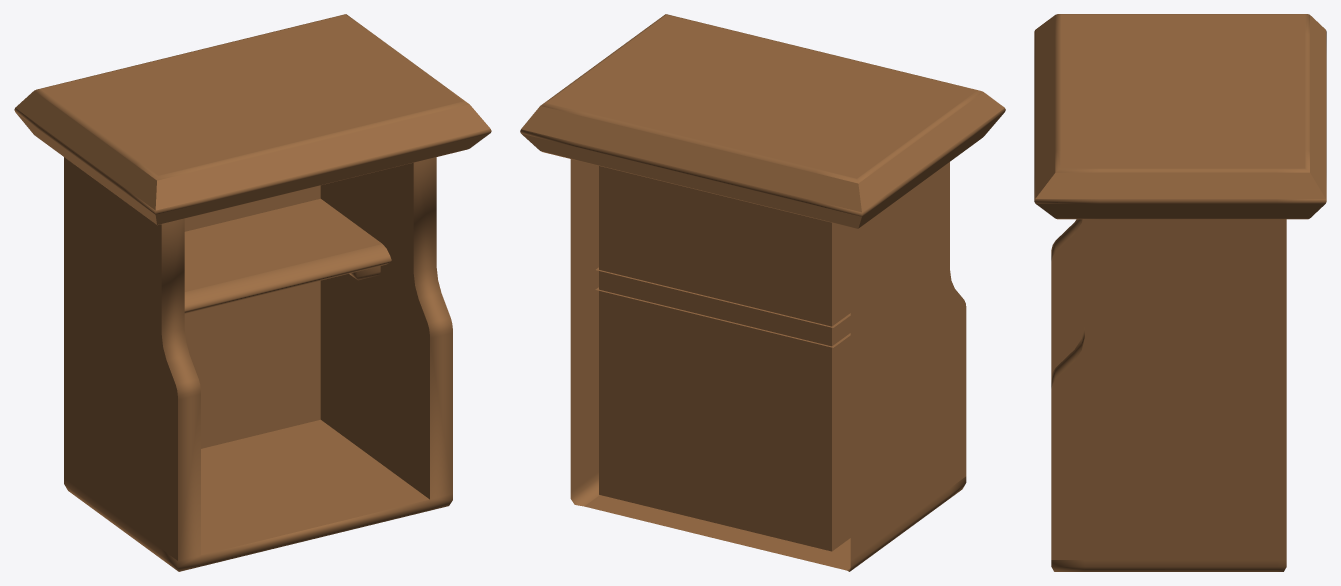
File: Upper_Cabinet_00.fbx
The picture shows the model from 3 angles, left to right: view 1: azimuth 30°, elevation 25°; view 2: azimuth 150°, elevation 25°; view 3: azimuth 270°, elevation 25°; orthographic projection. The views are drawn at different scales.
Parts seen in each view (by area): view 1: Upper_Cabinet_00; view 2: Upper_Cabinet_00; view 3: Upper_Cabinet_00.
Boxes of the visible parts, x1,y1,x2,y2 form: Upper_Cabinet_00: [14, 14, 491, 571]; Upper_Cabinet_00: [520, 14, 1005, 571]; Upper_Cabinet_00: [1034, 14, 1326, 571].
Size of the model in its own units: 55.77 by 63.55 by 40.59.
